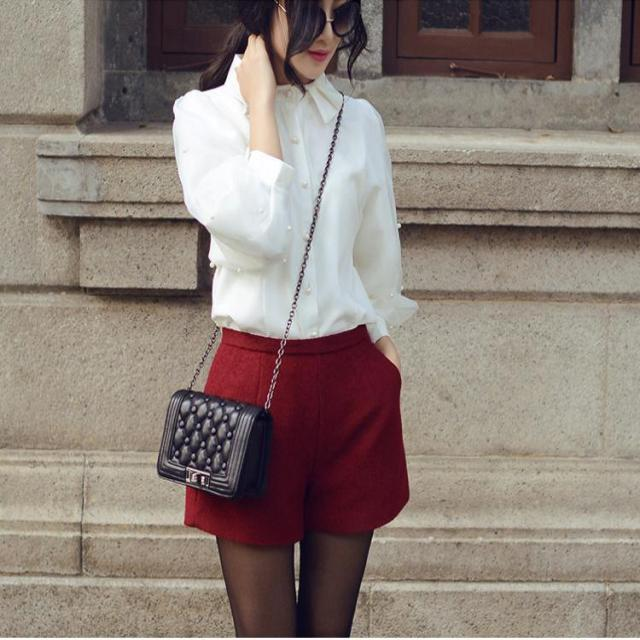long sleeve top: (176, 54, 401, 339)
shorts: (188, 327, 410, 541)
